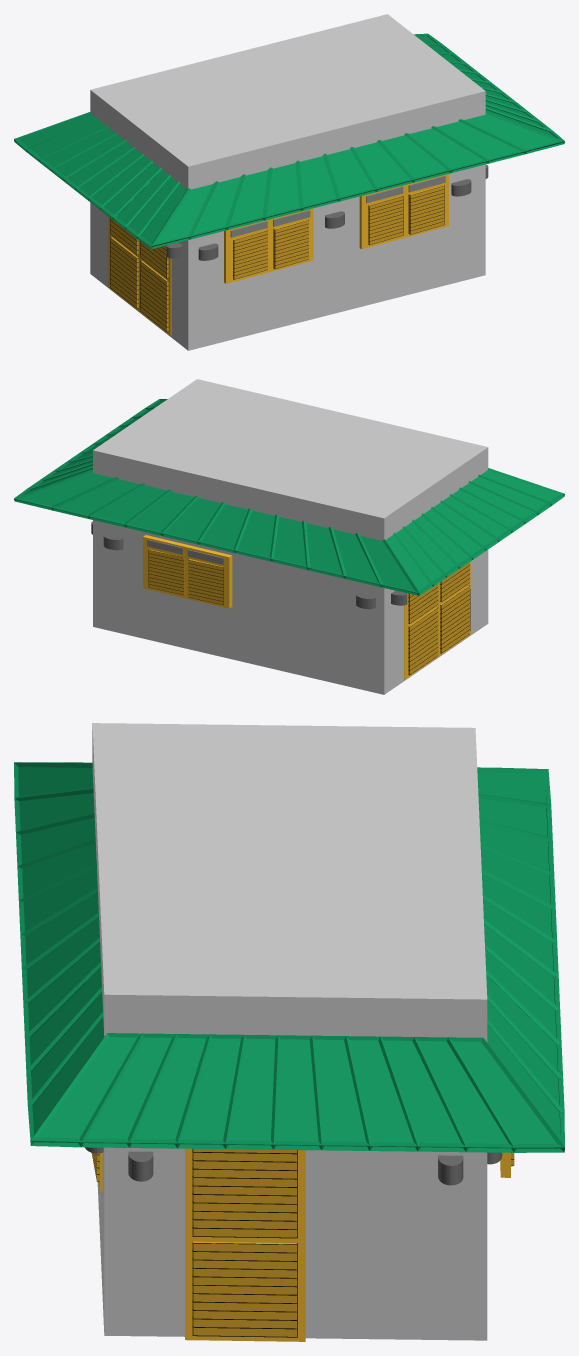
Rendered from utility.glb.
3 views of the same model, one above another, from view 1: azimuth 30°, elevation 25°; view 2: azimuth 150°, elevation 25°; view 3: azimuth 270°, elevation 25° (orthographic). The views are drawn at different scales.
Parts seen in each view (by area): view 1: utility2; view 2: utility2; view 3: utility2.
Part boxes in pixels (left/top/right/bottom): utility2: left=14, top=14, right=564, bottom=350; utility2: left=14, top=379, right=564, bottom=694; utility2: left=14, top=723, right=564, bottom=1341.
Bounding box in the file's own units: 4.12 × 1.7 × 2.49.
